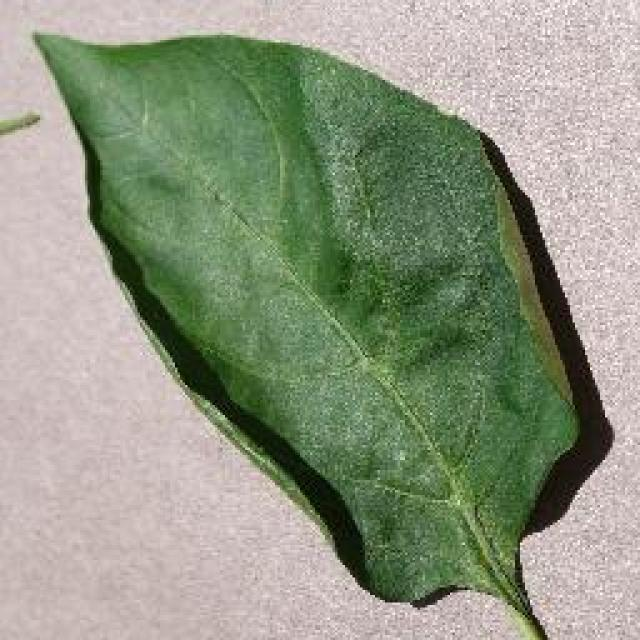Leaf: (21, 16, 413, 325)
